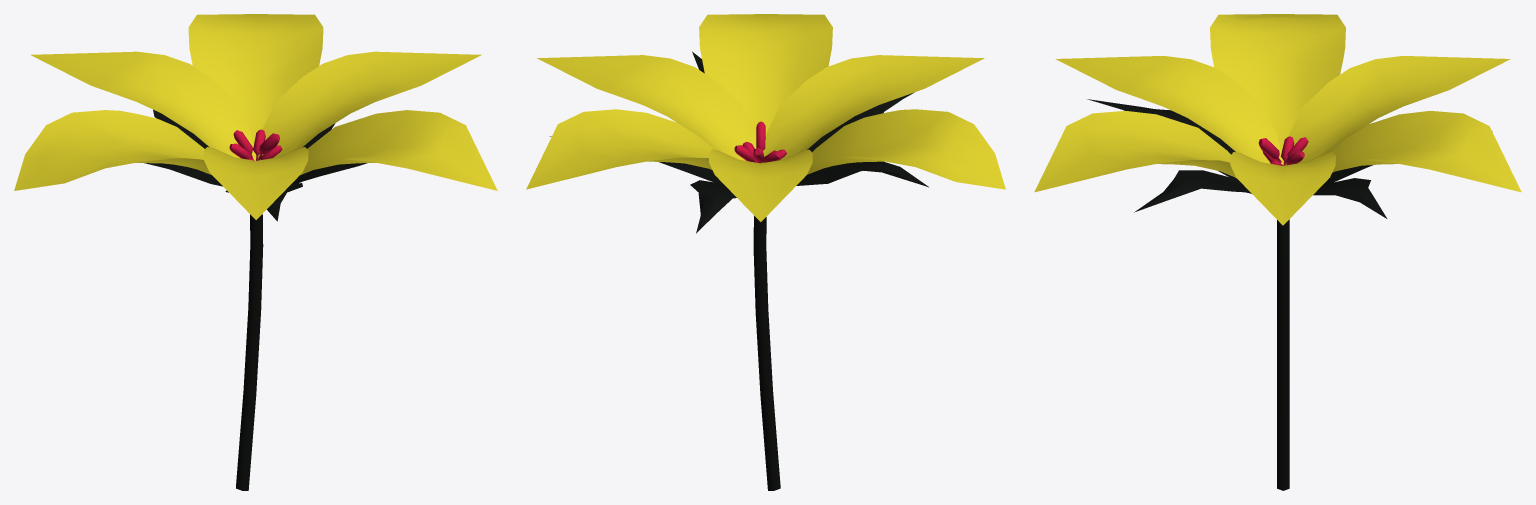
File: SM_Flower003.FBX
3 views of the same model, side by side, from view 1: azimuth 30°, elevation 25°; view 2: azimuth 150°, elevation 25°; view 3: azimuth 270°, elevation 25° (orthographic).
Parts seen in each view (by area): view 1: SM_Flower003; view 2: SM_Flower003; view 3: SM_Flower003.
Boxes of the visible parts, <box> form: SM_Flower003: <box>14,14,497,490</box>; SM_Flower003: <box>526,14,1005,490</box>; SM_Flower003: <box>1034,14,1521,490</box>.
Size of what is drawn, in the model's own units: 18.28 by 16.27 by 14.43.
